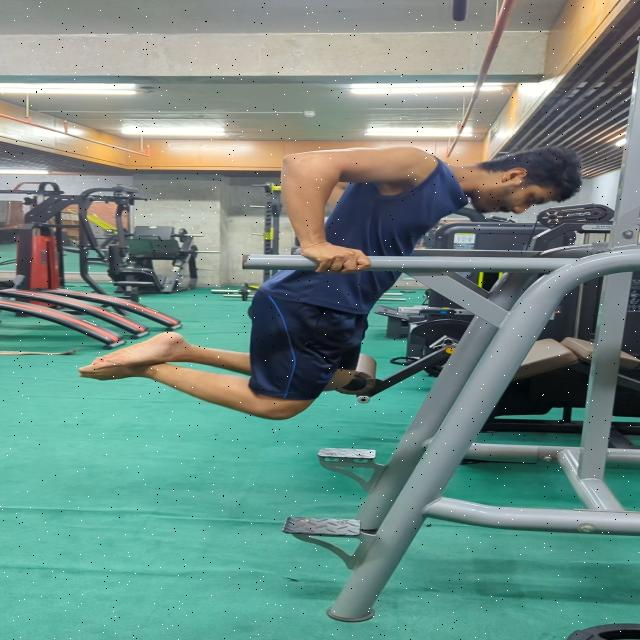Normal_Dips: (71, 140, 587, 422)
